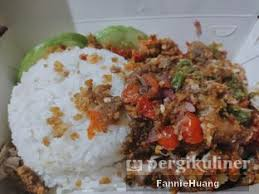ayam_geprek: (122, 36, 252, 194)
